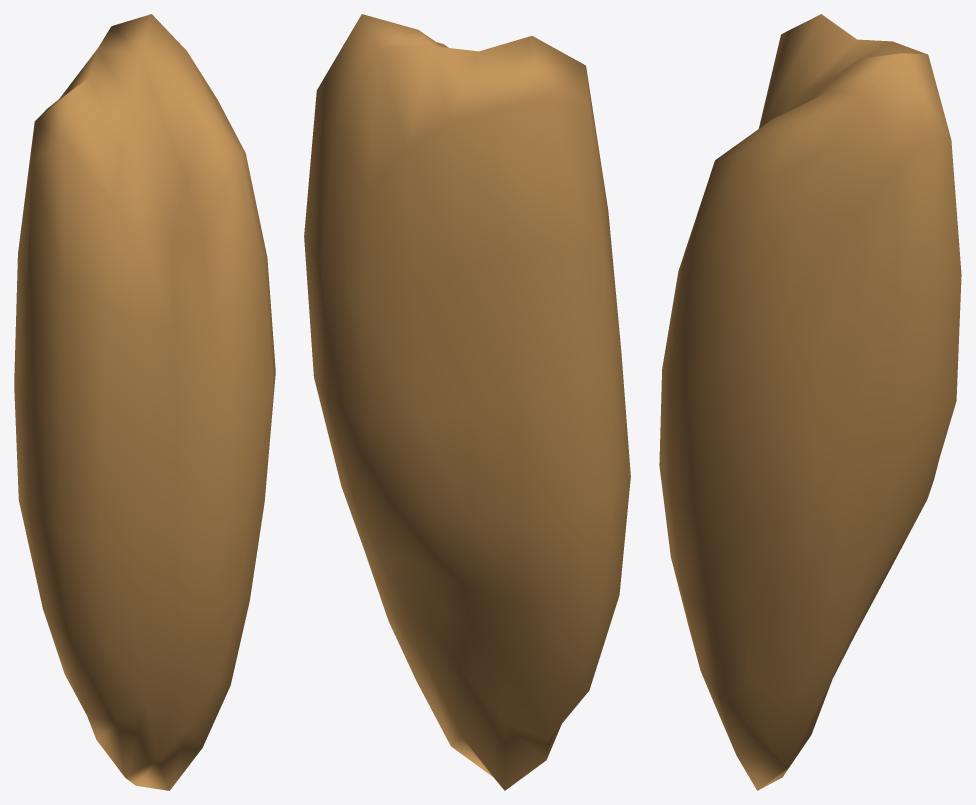
File: coxa_T1_left_leg.obj
3 renders of one model, left to right at view 1: azimuth 30°, elevation 25°; view 2: azimuth 150°, elevation 25°; view 3: azimuth 270°, elevation 25°, orthographic. The views are drawn at different scales.
Size of the model in its own units: 0.0148 by 0.0441 by 0.0158.
